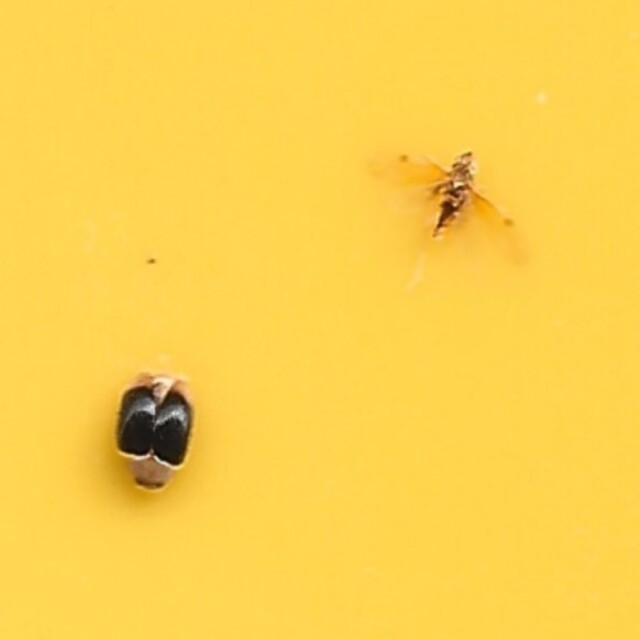Coleoptera: (110, 367, 197, 498)
Hemiptera: (371, 142, 530, 279)
